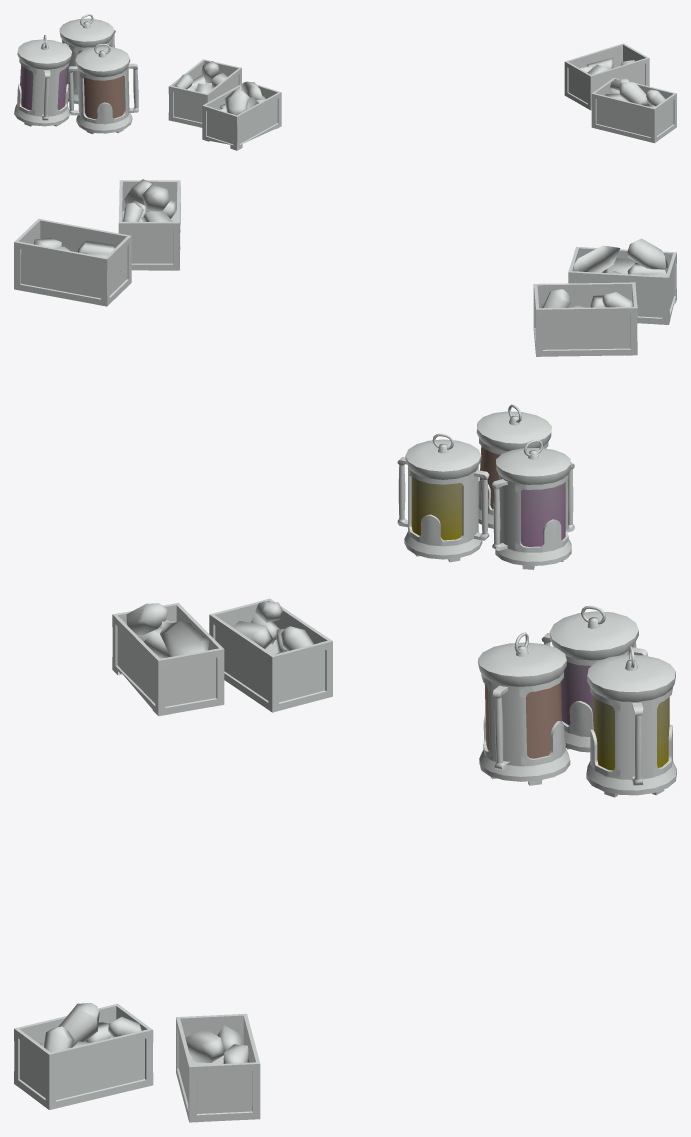
3 views of the same model, one above another, from view 1: azimuth 30°, elevation 25°; view 2: azimuth 150°, elevation 25°; view 3: azimuth 270°, elevation 25° (orthographic). The views are drawn at different scales.
Visible parts, largest first — view 1: G:\FFXIV-MapTools\exports\n4f1\bg\ex3\01_nvt_n4\fld\n4f1\bgp (×4); view 2: G:\FFXIV-MapTools\exports\n4f1\bg\ex3\01_nvt_n4\fld\n4f1\bgp (×4); view 3: G:\FFXIV-MapTools\exports\n4f1\bg\ex3\01_nvt_n4\fld\n4f1\bgp (×4).
Boxes of the visible parts, box(x1,y1,x2,y2) form: G:\FFXIV-MapTools\exports\n4f1\bg\ex3\01_nvt_n4\fld\n4f1\bgp (×4): box(14, 14, 676, 150); G:\FFXIV-MapTools\exports\n4f1\bg\ex3\01_nvt_n4\fld\n4f1\bgp (×4): box(14, 179, 676, 569); G:\FFXIV-MapTools\exports\n4f1\bg\ex3\01_nvt_n4\fld\n4f1\bgp (×4): box(14, 598, 676, 1122).
Bounding box in the file's own units: 5.04 × 1.09 × 3.5.
